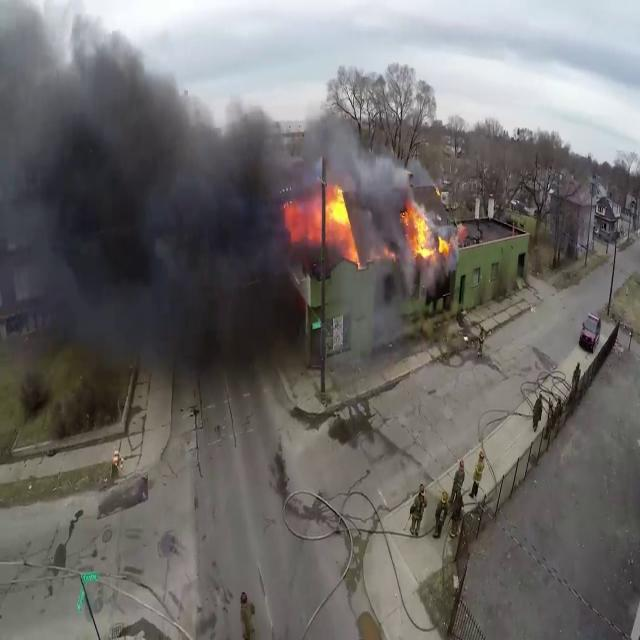Fire: (308, 176, 362, 272), (400, 197, 452, 266)
Smoke: (0, 11, 323, 424), (343, 122, 408, 232)
